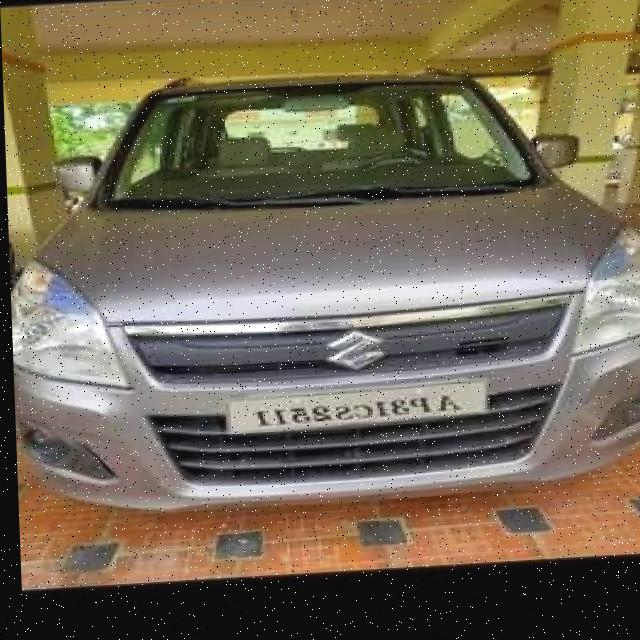plate: (223, 384, 486, 436)
